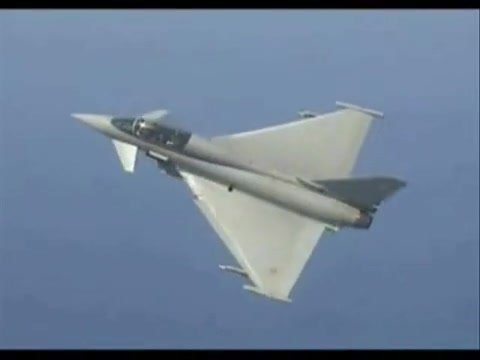aeroplane: (70, 101, 407, 306)
